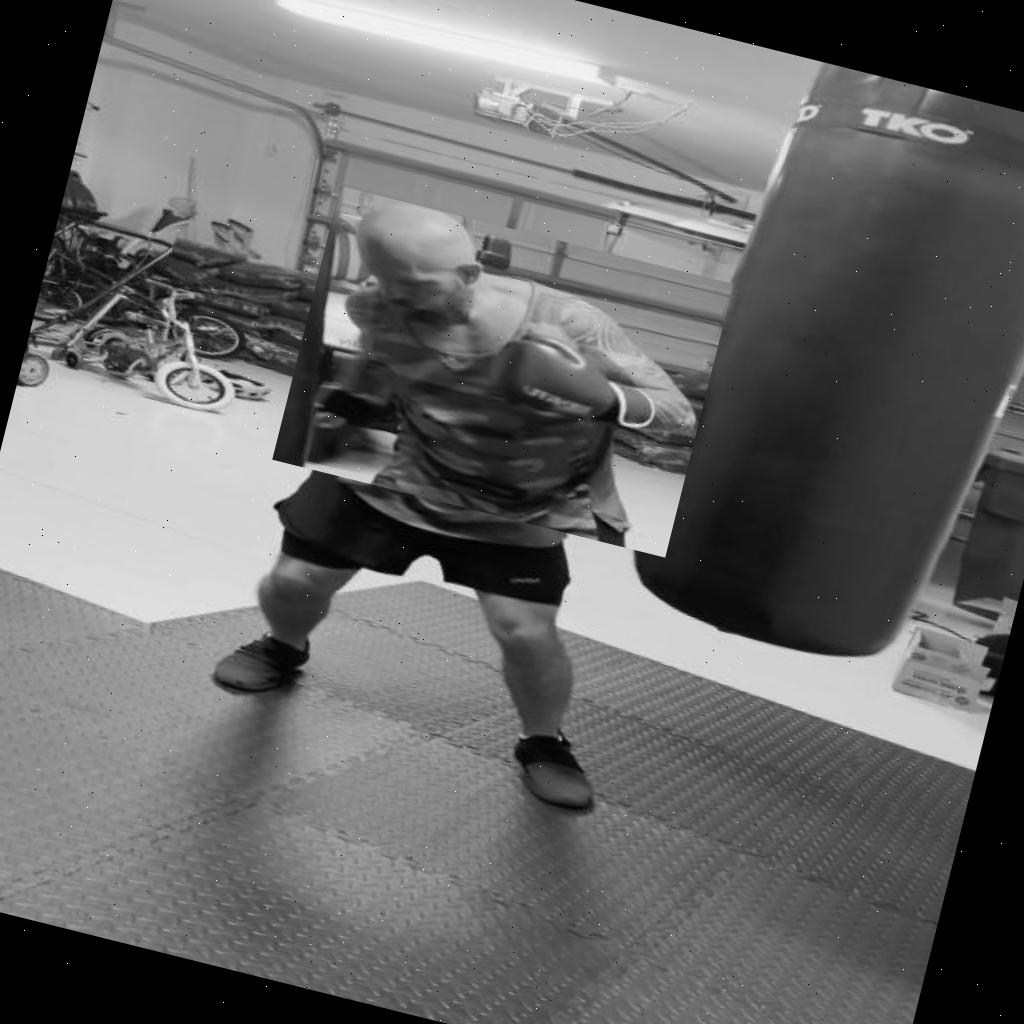bag: (651, 54, 1024, 693)
uppercut: (272, 186, 732, 557)
